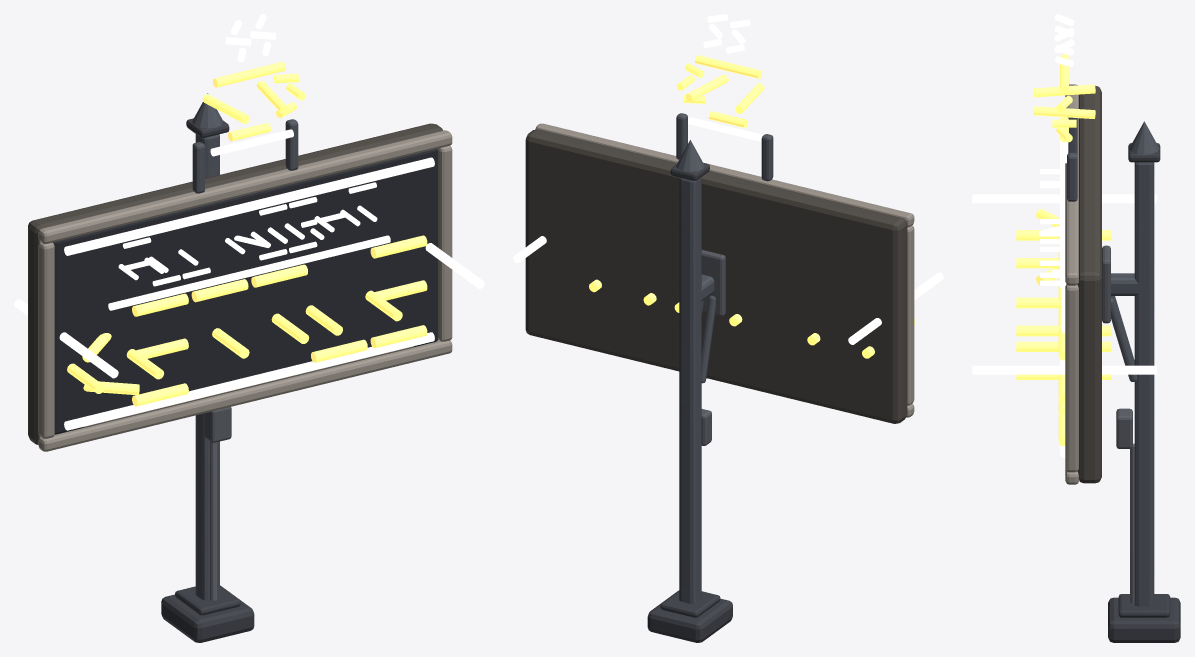
Rendered from sign_diner.glb.
The picture shows the model from 3 angles, left to right: view 1: azimuth 30°, elevation 25°; view 2: azimuth 150°, elevation 25°; view 3: azimuth 270°, elevation 25°; orthographic projection. The views are drawn at different scales.
Visible parts, largest first — view 1: sign_diner_face, sign_diner_rail_top, sign_diner_plate, sign_diner_rail_bottom, sign_diner_border_s2, sign_diner_mast_0, sign_diner_border_s0, sign_diner_rail_l, sign_diner_rail_r, sign_diner_foot_0, sign_diner_rule_s0, sign_diner_conduit (+14 smaller); view 2: sign_diner_plate, sign_diner_mast_0, sign_diner_rail_top, sign_diner_foot_0, sign_diner_rail_l, sign_diner_stiffener_0, sign_diner_footplate_0, sign_diner_brace_0a, sign_diner_border_s3, sign_diner_crest_rim_s0, sign_diner_crest_saucer_s0; view 3: sign_diner_mast_0, sign_diner_plate, sign_diner_rail_r, sign_diner_foot_0, sign_diner_rail_top, sign_diner_border_s1, sign_diner_border_s3, sign_diner_footplate_0, sign_diner_border_s2, sign_diner_conduit, sign_diner_stiffener_0, sign_diner_junction (+13 smaller).
Boxes of the visible parts, x1,y1,x2,y2 form: sign_diner_face: (53,148,437,434); sign_diner_rail_top: (38,130,452,243); sign_diner_plate: (28,123,442,444); sign_diner_rail_bottom: (38,339,452,451); sign_diner_border_s2: (64,157,434,255); sign_diner_mast_0: (195,134,219,600); sign_diner_border_s0: (64,332,434,430); sign_diner_rail_l: (38,242,54,438); sign_diner_rail_r: (437,145,452,341); sign_diner_foot_0: (161,585,254,642); sign_diner_rule_s0: (108,235,390,310); sign_diner_conduit: (210,441,216,600); sign_diner_plate: (525,129,907,423); sign_diner_mast_0: (679,177,701,603); sign_diner_rail_top: (535,123,914,227); sign_diner_foot_0: (647,590,732,642); sign_diner_rail_l: (907,225,914,405); sign_diner_stiffener_0: (701,250,725,316); sign_diner_footplate_0: (660,591,720,617); sign_diner_brace_0a: (701,295,715,383); sign_diner_border_s3: (848,272,943,344); sign_diner_crest_rim_s0: (695,55,761,78); sign_diner_crest_saucer_s0: (688,117,763,141); sign_diner_mast_0: (1134,162,1154,606); sign_diner_plate: (1077,85,1101,483); sign_diner_rail_r: (1065,284,1078,472); sign_diner_foot_0: (1108,597,1180,642); sign_diner_rail_top: (1065,84,1078,285); sign_diner_border_s1: (972,365,1156,374); sign_diner_border_s3: (972,194,1156,203); sign_diner_footplate_0: (1118,594,1170,617); sign_diner_border_s2: (1060,117,1066,290); sign_diner_conduit: (1130,443,1134,603); sign_diner_stiffener_0: (1102,245,1110,323); sign_diner_junction: (1116,408,1132,448).
Size of the model in its own units: 2.99 by 4.42 by 1.37.
Materials: 67 (3 with a texture image).
